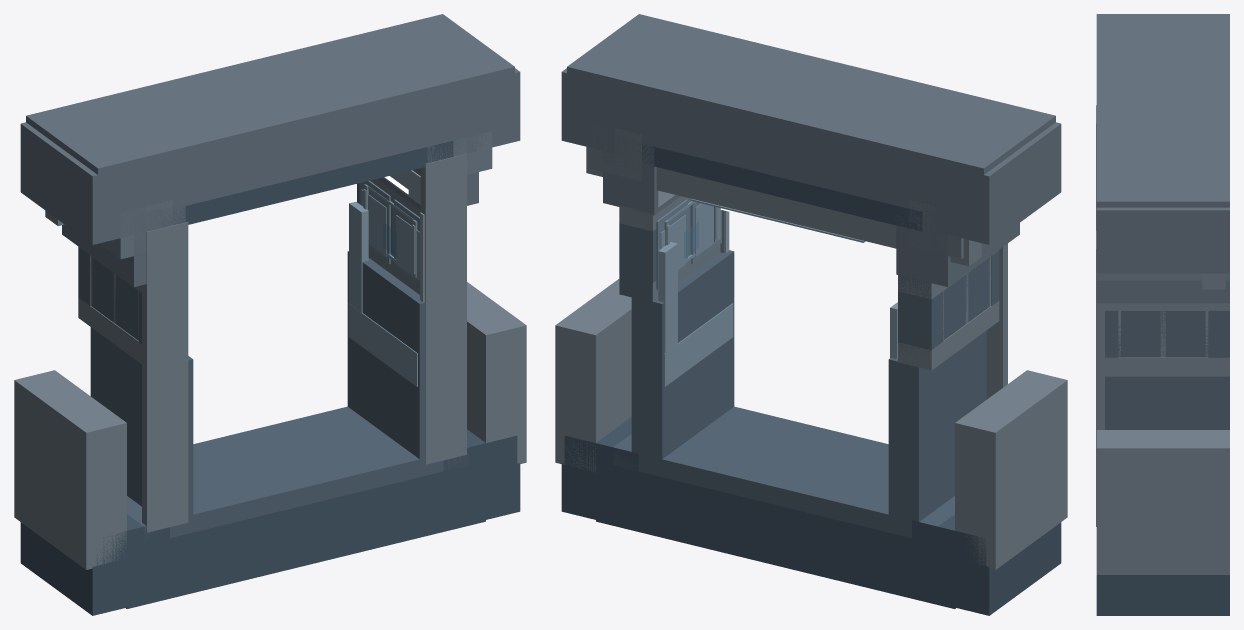
File: continuum-enclosure-bays-v2.gltf
3 views of the same model, side by side, from view 1: azimuth 30°, elevation 25°; view 2: azimuth 150°, elevation 25°; view 3: azimuth 270°, elevation 25° (orthographic). The views are drawn at different scales.
Parts seen in each view (by area): view 1: PANORAMA_SHELL, PANORAMA_INLAY, SERVICE_INLAY, SERVICE_SHELL, GATE_INLAY; view 2: PANORAMA_SHELL, GATE_SHELL, SERVICE_SHELL, PANORAMA_INLAY, SERVICE_INLAY, GATE_INLAY; view 3: PANORAMA_SHELL, SERVICE_SHELL, GATE_SHELL.
Boxes of the visible parts, x1,y1,x2,y2 form: PANORAMA_SHELL: [14, 14, 526, 615]; PANORAMA_INLAY: [348, 170, 424, 386]; SERVICE_INLAY: [359, 180, 419, 286]; SERVICE_SHELL: [90, 206, 391, 339]; GATE_INLAY: [349, 201, 368, 312]; PANORAMA_SHELL: [555, 14, 1067, 615]; GATE_SHELL: [586, 146, 981, 266]; SERVICE_SHELL: [620, 206, 990, 364]; PANORAMA_INLAY: [657, 190, 733, 386]; SERVICE_INLAY: [656, 199, 721, 289]; GATE_INLAY: [658, 198, 897, 358]; PANORAMA_SHELL: [1096, 14, 1229, 615]; SERVICE_SHELL: [1118, 311, 1208, 357]; GATE_SHELL: [1202, 273, 1225, 289].
Size of the model in its own units: 56.4 by 54.8 by 16.08.
